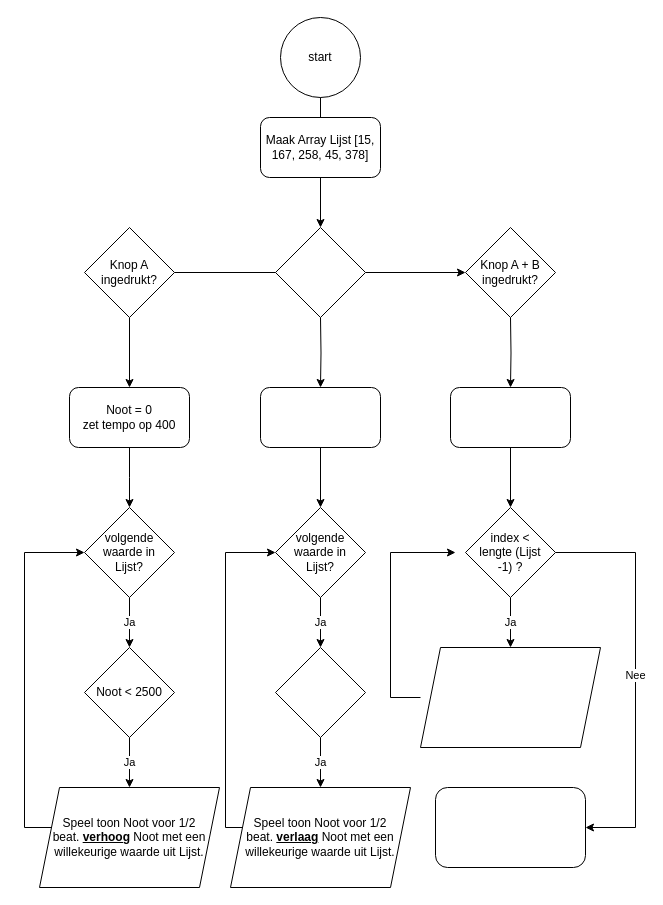
Image size: 663x905. Some labels were removed from this diagram. Here are the shapes that lost their labels. From the top down, the centre of each, then its label:
the point at 320,272: Knop B ingedrukt?
the point at 320,417: Noot = 2500 zet tempo op 400
the point at 510,417: Toon string "Array:" pauzeer voor 100ms
the point at 320,692: Noot > 0
the point at 510,697: Toon waarde Lijst op index. pauzeer 100ms. wis scherm.
the point at 510,827: Toon string "Noot:" Toon nummer Noot
